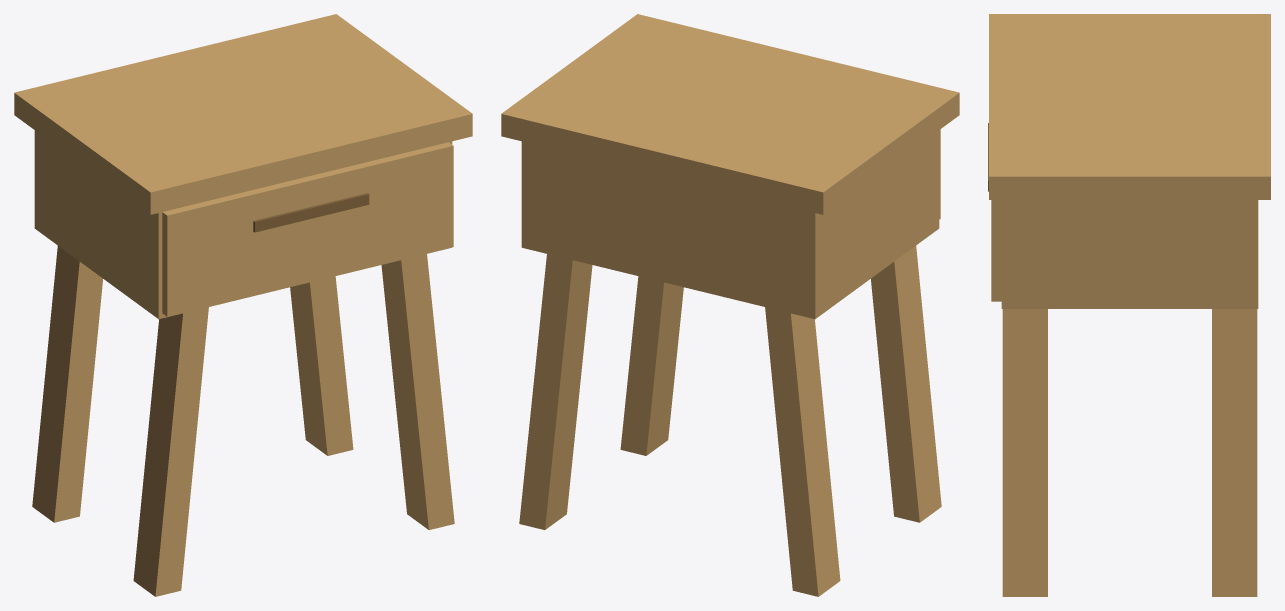
The picture shows the model from 3 angles, left to right: view 1: azimuth 30°, elevation 25°; view 2: azimuth 150°, elevation 25°; view 3: azimuth 270°, elevation 25°; orthographic projection. The views are drawn at different scales.
Parts seen in each view (by area): view 1: Top, Legs, DrawerFront, DrawerCase, HandleSlot; view 2: Top, Legs, DrawerCase; view 3: Top, DrawerCase, Legs, DrawerFront.
Boxes of the visible parts, x1,y1,x2,y2 form: Top: (14,14,472,214); Legs: (32,245,454,596); DrawerFront: (162,142,453,316); DrawerCase: (34,130,452,319); HandleSlot: (253,193,369,232); Top: (501,14,959,214); Legs: (519,245,941,596); DrawerCase: (521,130,939,319); Top: (989,14,1270,199); DrawerCase: (1001,200,1258,308); Legs: (1002,309,1257,596); DrawerFront: (991,200,1001,301).
Bounding box in the file's own units: 0.45 × 0.55 × 0.331.
